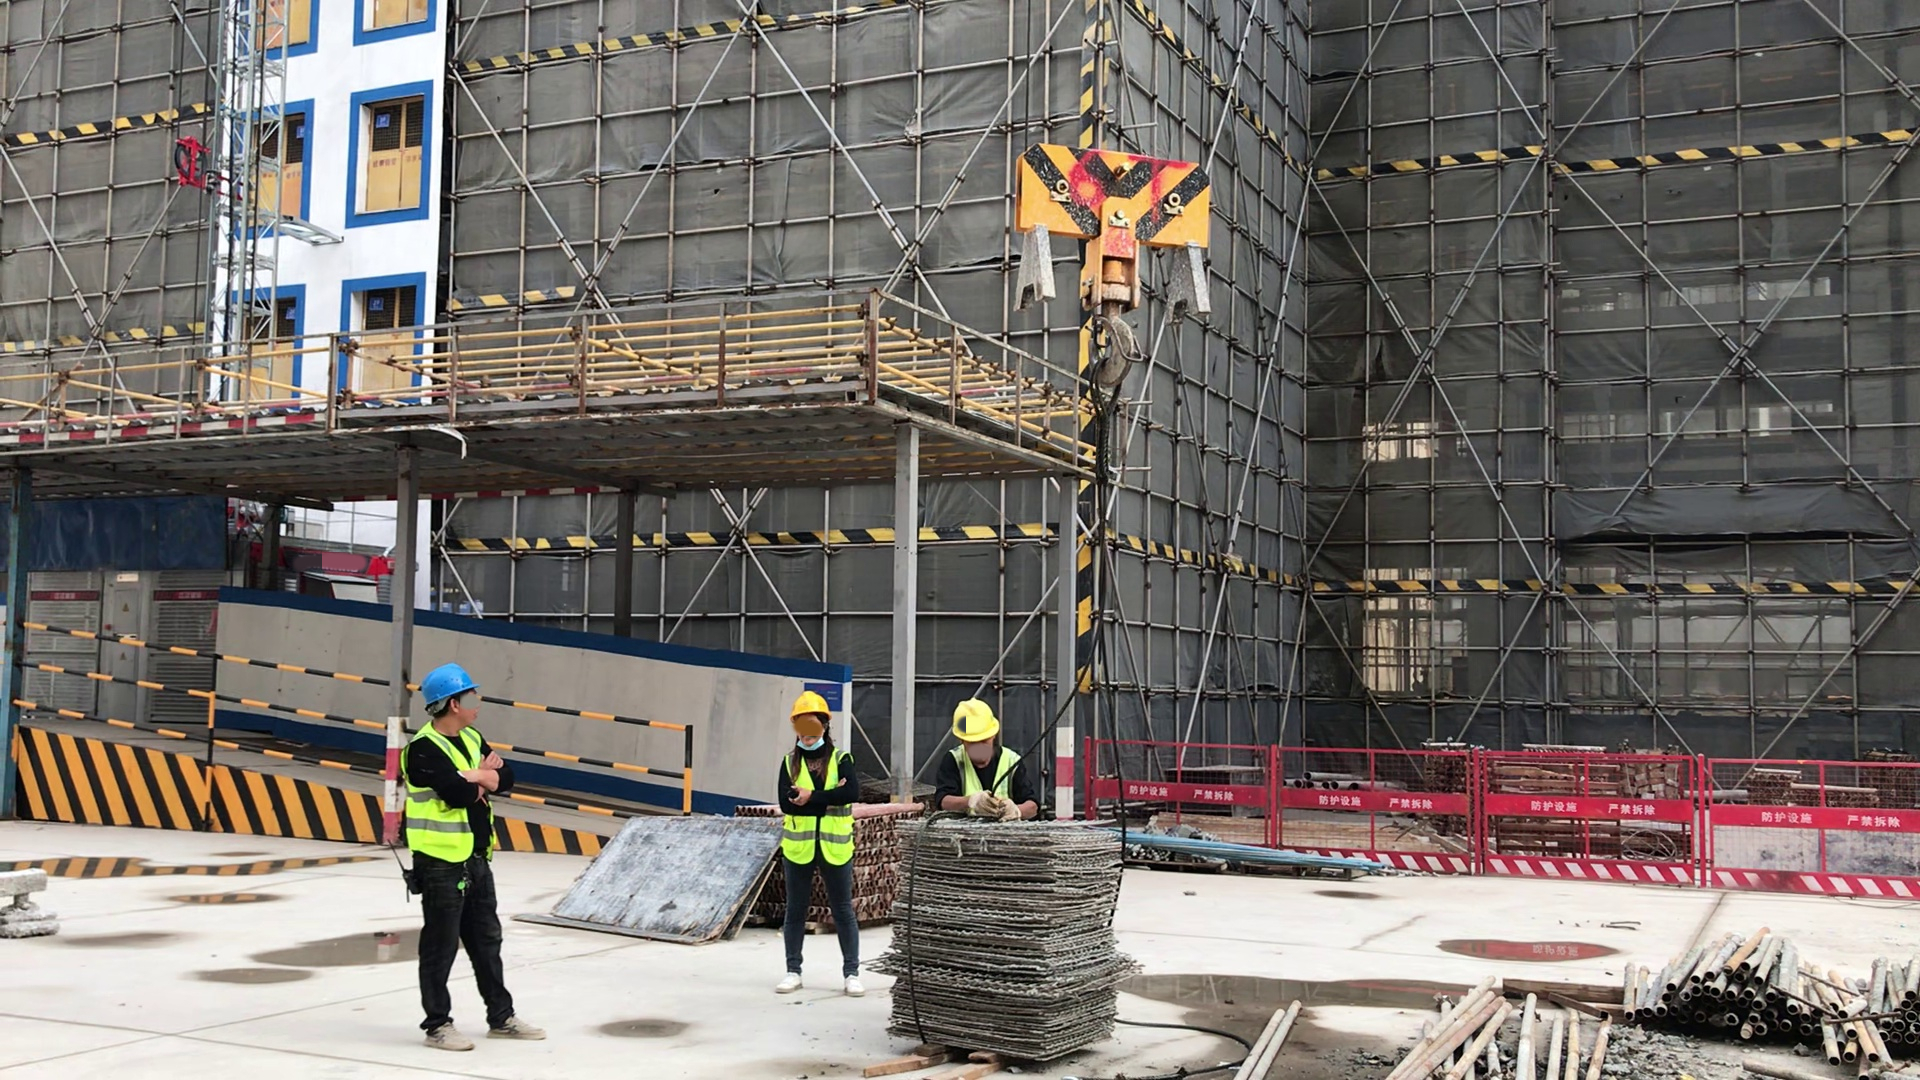fence: (1360, 737, 1920, 902), (26, 613, 382, 778), (1122, 737, 1366, 845), (506, 695, 696, 802)
helmet: (418, 667, 484, 711), (949, 701, 1000, 749), (792, 691, 832, 722)
hook: (1000, 139, 1232, 387)
person: (401, 663, 559, 1056), (762, 693, 873, 1004), (930, 698, 1041, 823)
scaffold: (1607, 930, 1920, 1079)
slogan: (173, 590, 208, 600), (53, 590, 77, 601)
vest: (403, 726, 504, 871), (781, 743, 856, 871), (941, 741, 1022, 817)
